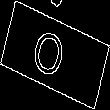O_S: (35, 24, 75, 86)
